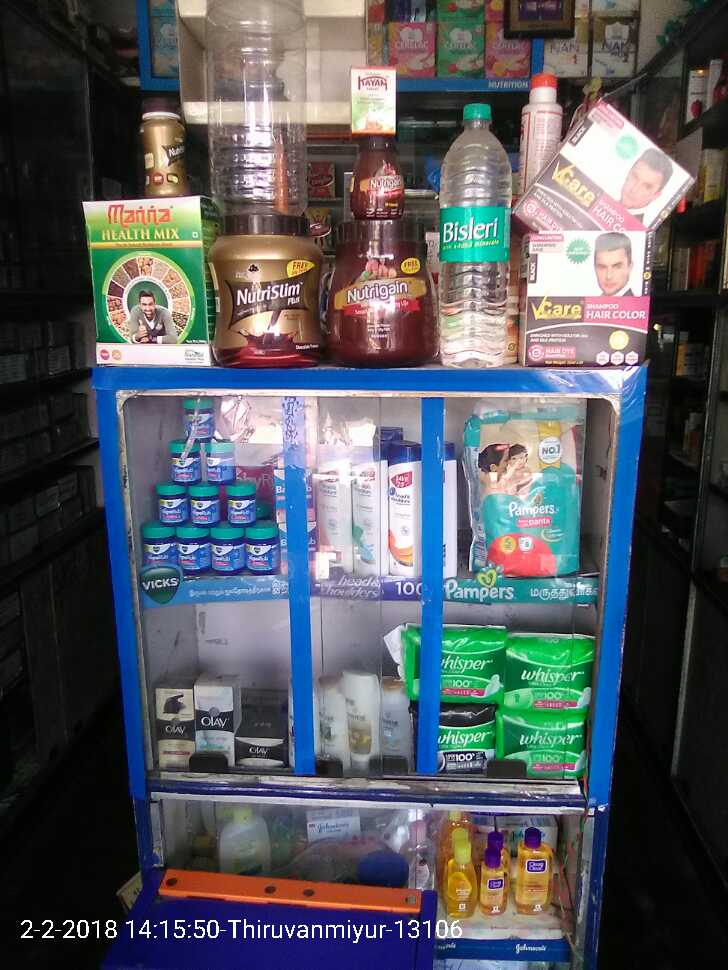vicks: (159, 397, 252, 520), (176, 524, 211, 575), (211, 523, 245, 575), (245, 523, 279, 574), (143, 524, 176, 574)
